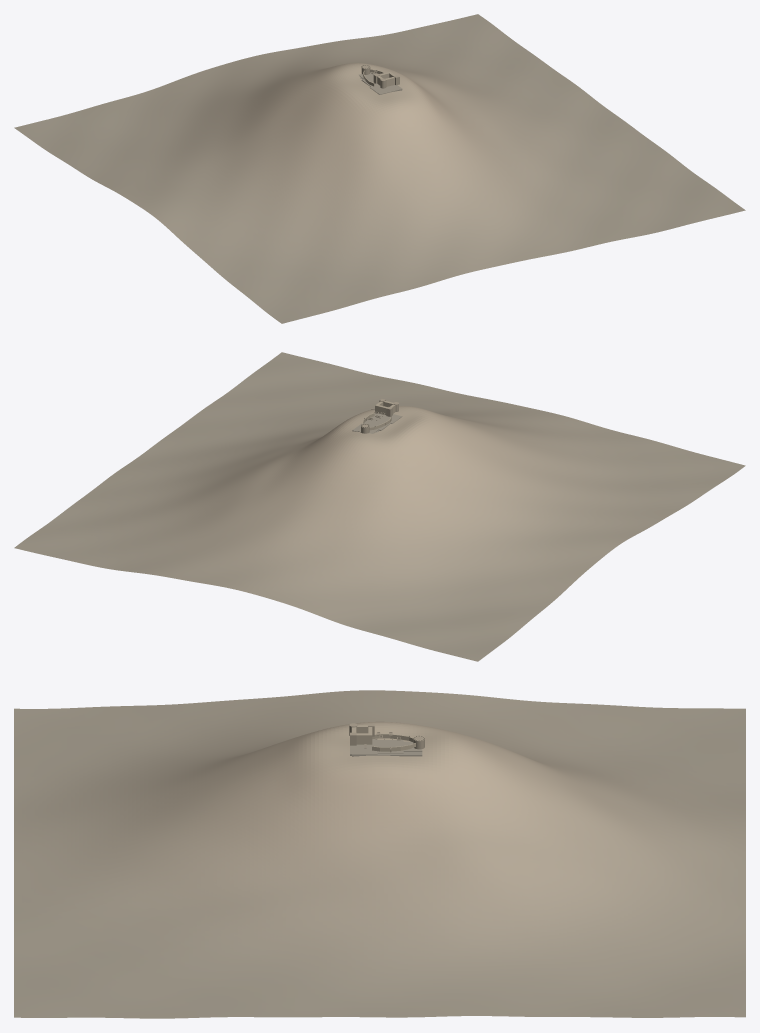
File: castalla_current_final.glb
3 views of the same model, one above another, from view 1: azimuth 30°, elevation 25°; view 2: azimuth 150°, elevation 25°; view 3: azimuth 270°, elevation 25° (orthographic). The views are drawn at different scales.
Visible parts, largest first — view 1: world; view 2: world; view 3: world.
Boxes of the visible parts, x1,y1,x2,y2 form: world: [14, 14, 745, 323]; world: [14, 352, 745, 661]; world: [14, 690, 745, 1018].
Size of the model in its own units: 900 by 183 by 900.
